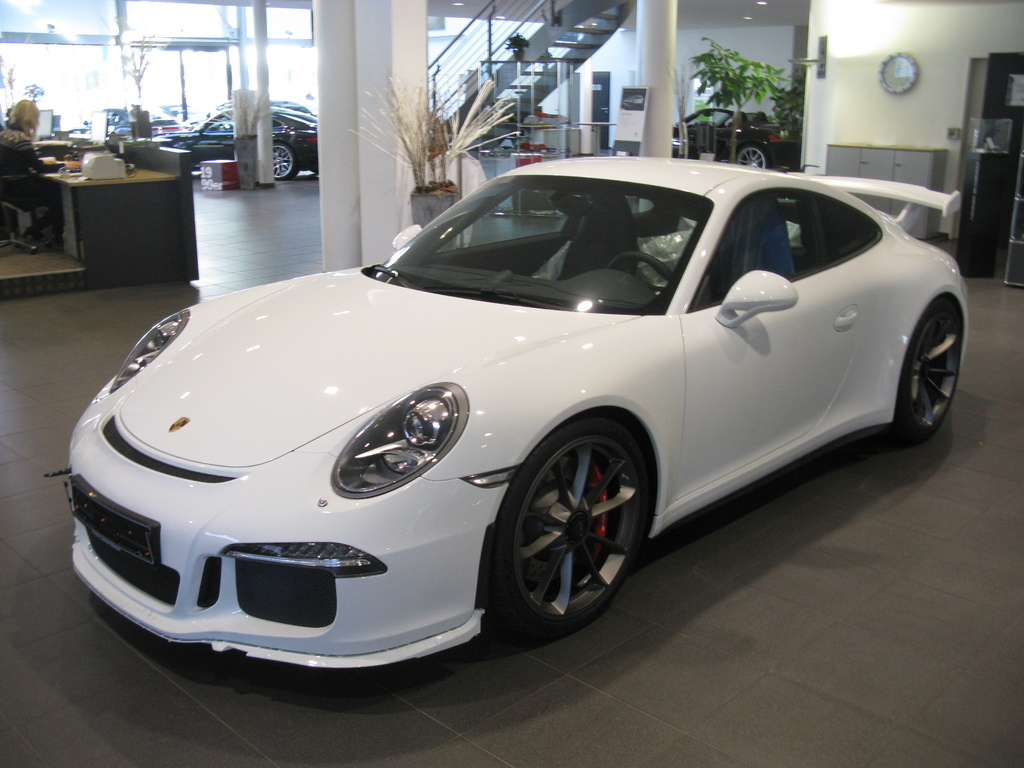Car: (44, 155, 968, 663), (142, 98, 332, 200), (88, 94, 211, 139)
